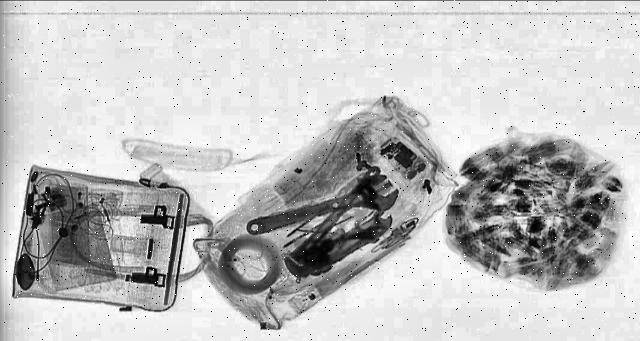Wrench: (227, 171, 413, 241)
